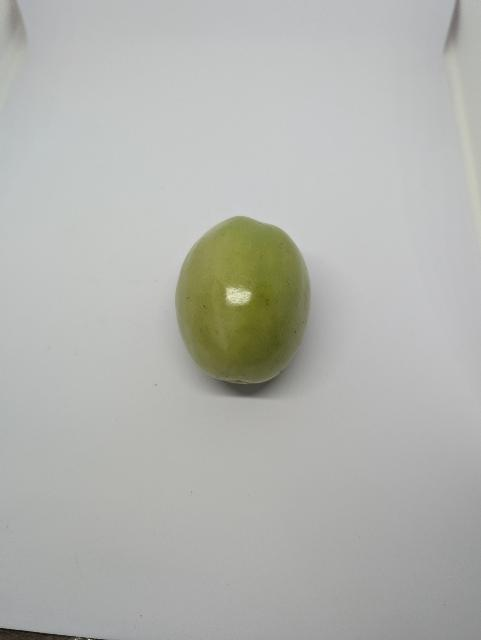green: (166, 210, 325, 394)
